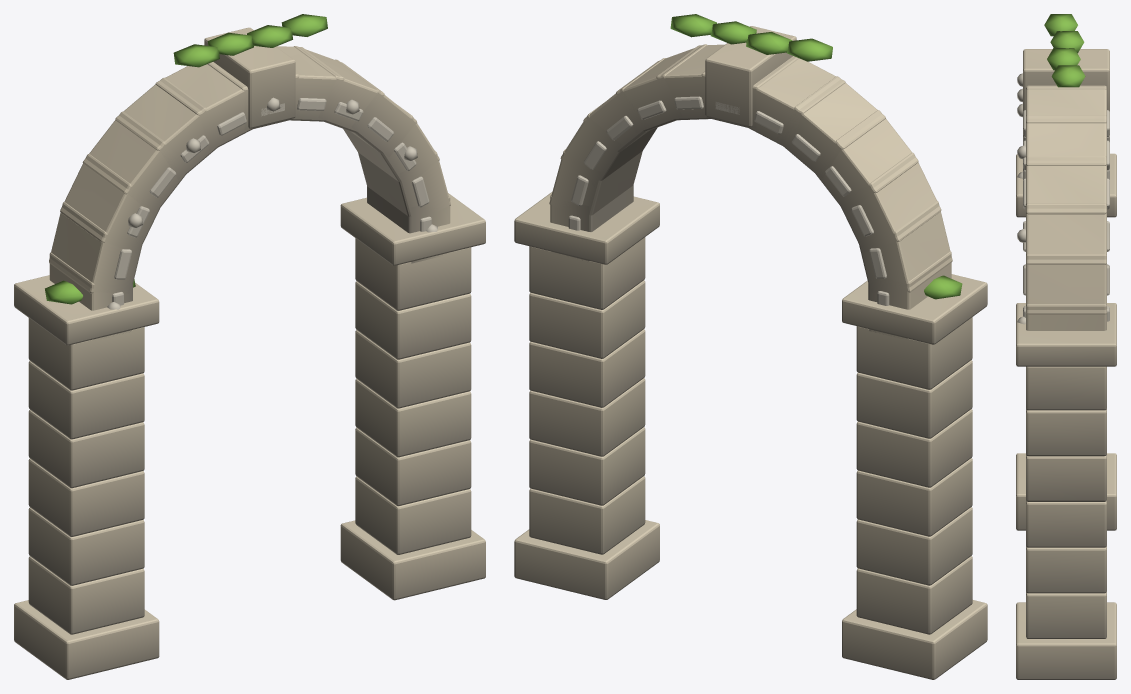
File: ruin_arch.glb
3 renders of one model, left to right at view 1: azimuth 30°, elevation 25°; view 2: azimuth 150°, elevation 25°; view 3: azimuth 270°, elevation 25°, orthographic. The views are drawn at different scales.
Visible parts, largest first — view 1: Arch; view 2: Arch; view 3: Arch.
Boxes of the visible parts, x1,y1,x2,y2 form: Arch: (14,14,485,679); Arch: (514,14,987,679); Arch: (1016,14,1116,679).
Bounding box in the file's own units: 4.5 × 5.92 × 1.
